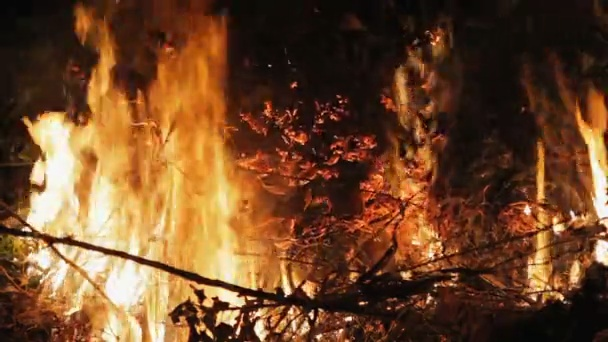fire: (17, 5, 269, 342), (570, 88, 608, 286), (527, 144, 566, 302), (280, 263, 319, 334), (411, 224, 442, 259)
